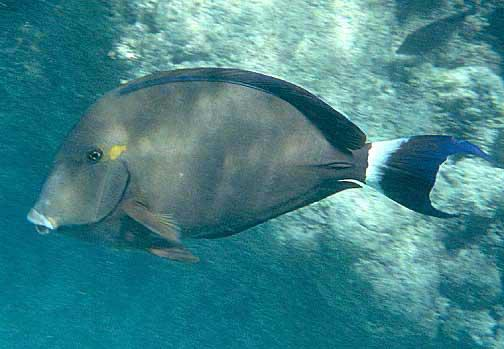Acanthuridae -Surgeonfishes-: (23, 64, 489, 256)
